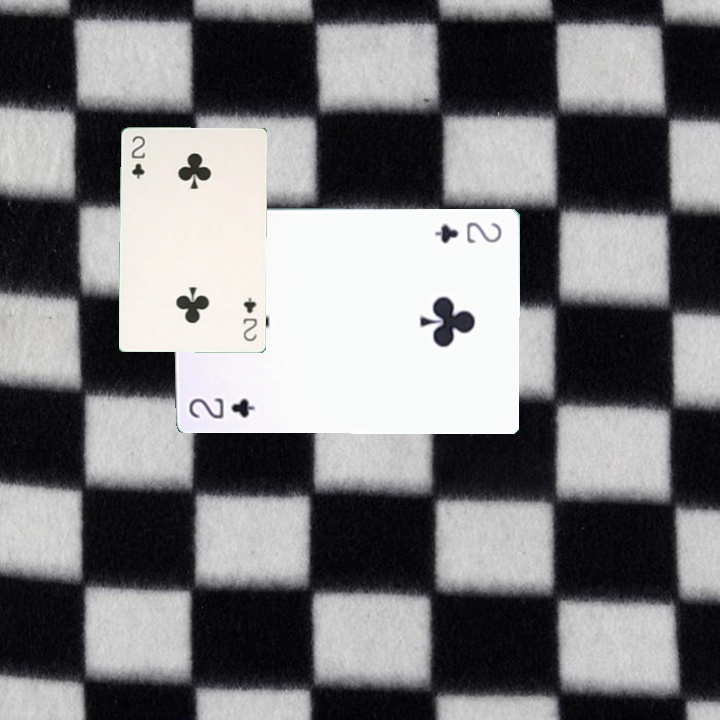2c: (431, 218, 504, 246), (185, 394, 258, 421), (239, 293, 260, 344), (127, 132, 147, 181)
